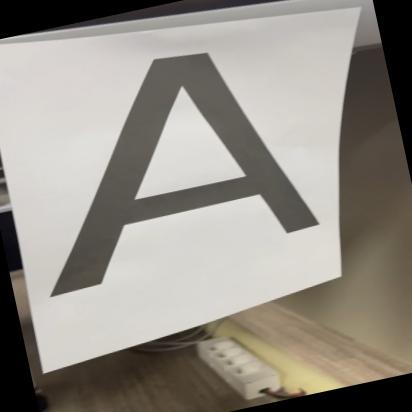seat: (0, 30, 323, 308)
